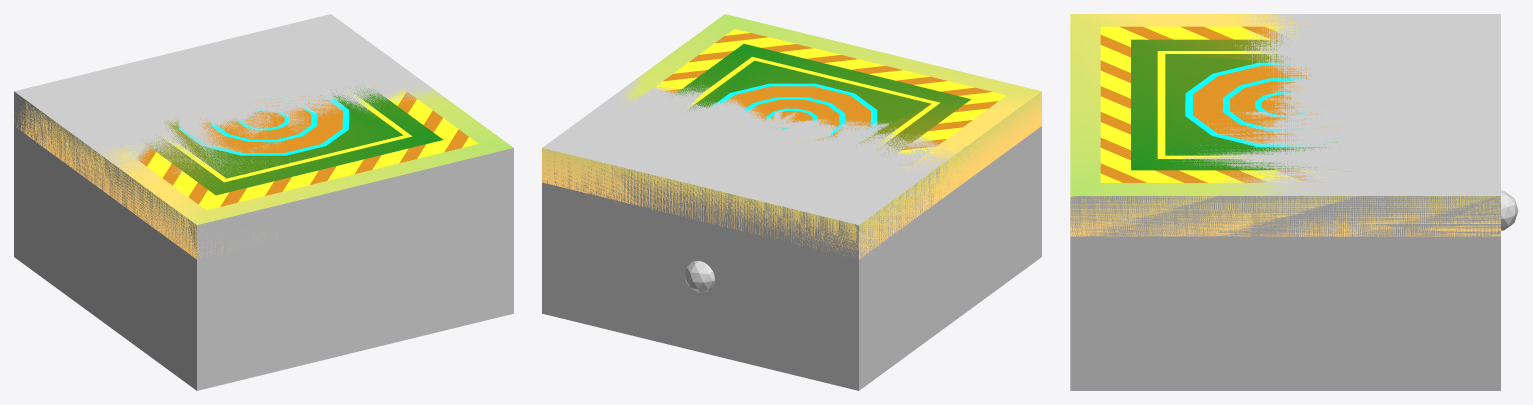
The model's file is Hob_-_Electric.fbx.
3 views of the same model, side by side, from view 1: azimuth 30°, elevation 25°; view 2: azimuth 150°, elevation 25°; view 3: azimuth 270°, elevation 25° (orthographic). The views are drawn at different scales.
Visible parts, largest first — view 1: Block.002, Top.005, Base_L_Counter.blend.001; view 2: Block.002, Top.005, Base_L_Counter.blend.001, Handle_L_Counter.blend.001; view 3: Block.002, Top.005, Base_L_Counter.blend.001, Handle_L_Counter.blend.001.
Part boxes in pixels (left/top/right/bottom): Block.002: left=14, top=14, right=513, bottom=390; Top.005: left=102, top=84, right=513, bottom=224; Base_L_Counter.blend.001: left=15, top=101, right=277, bottom=259; Block.002: left=542, top=69, right=1041, bottom=390; Top.005: left=620, top=14, right=1041, bottom=169; Base_L_Counter.blend.001: left=542, top=91, right=1041, bottom=258; Handle_L_Counter.blend.001: left=684, top=260, right=715, bottom=292; Block.002: left=1070, top=14, right=1500, bottom=390; Top.005: left=1070, top=14, right=1357, bottom=195; Base_L_Counter.blend.001: left=1070, top=196, right=1500, bottom=236; Handle_L_Counter.blend.001: left=1501, top=190, right=1518, bottom=230.
Bounding box in the file's own units: 1 × 0.5 × 1.04.
